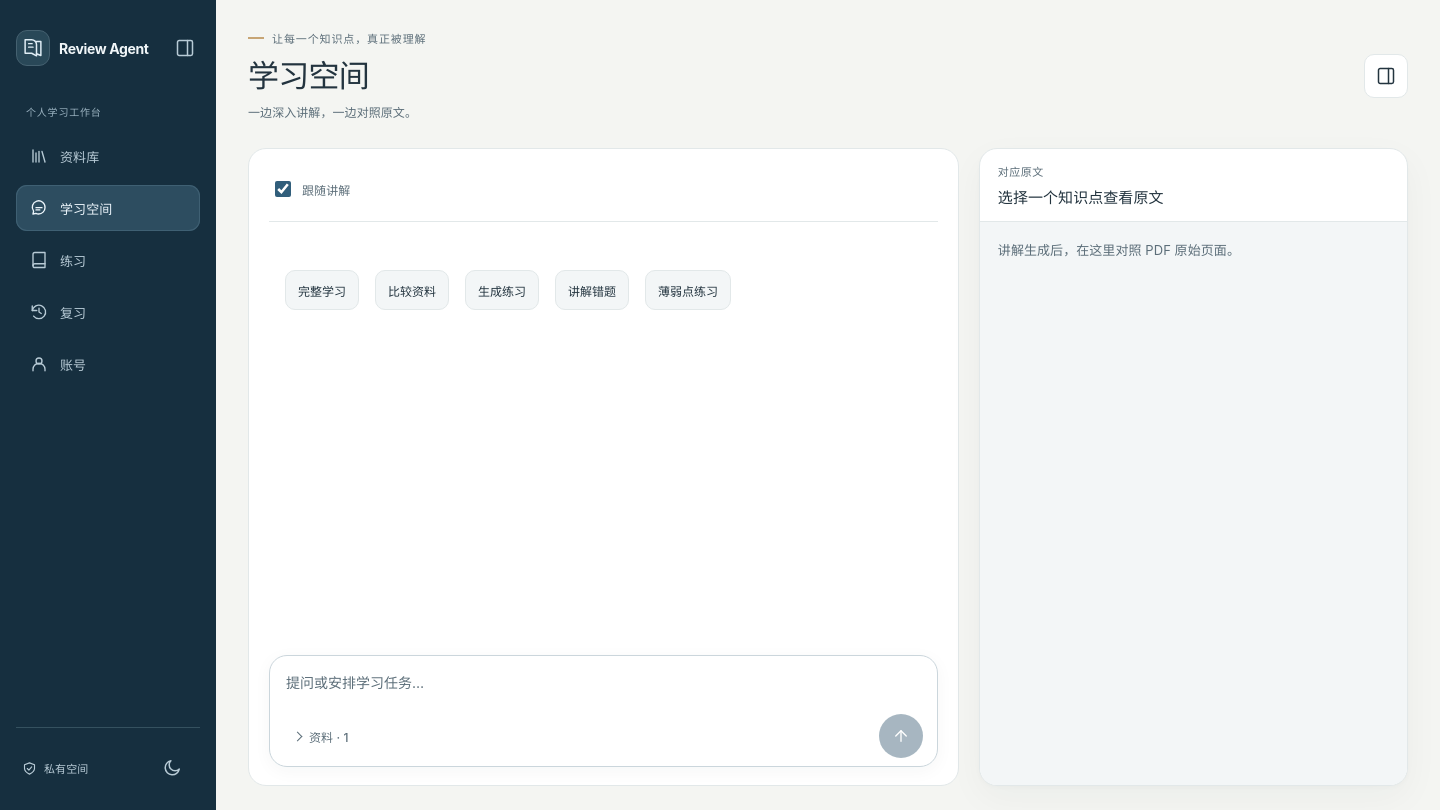
Scenario: an unindexed scope sends the user to the reader to consent instead of retrying the save
Click the heading "资料 · 1": (321, 736) [284,714,358,758]
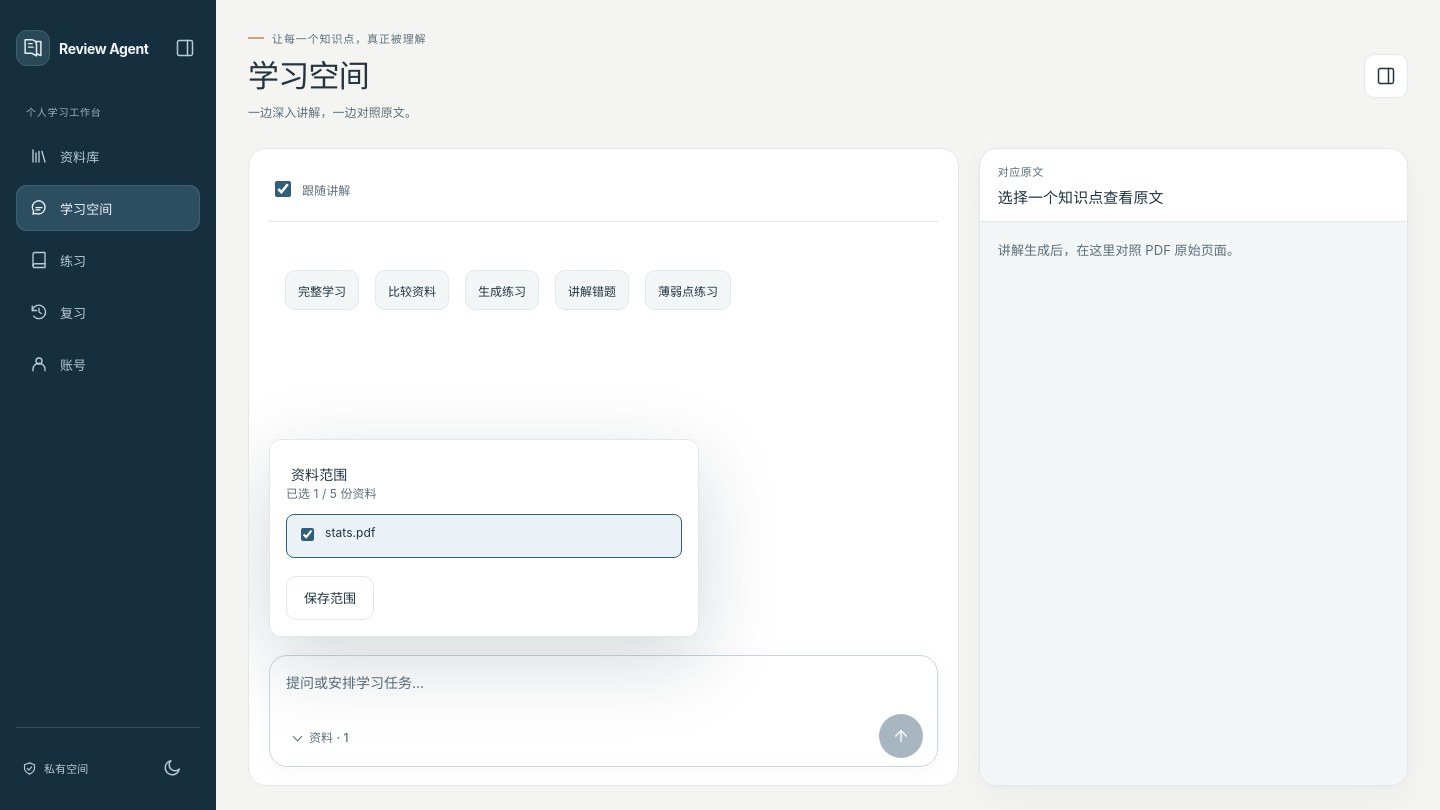
Click the button "保存范围": (330, 598) [286,576,374,620]
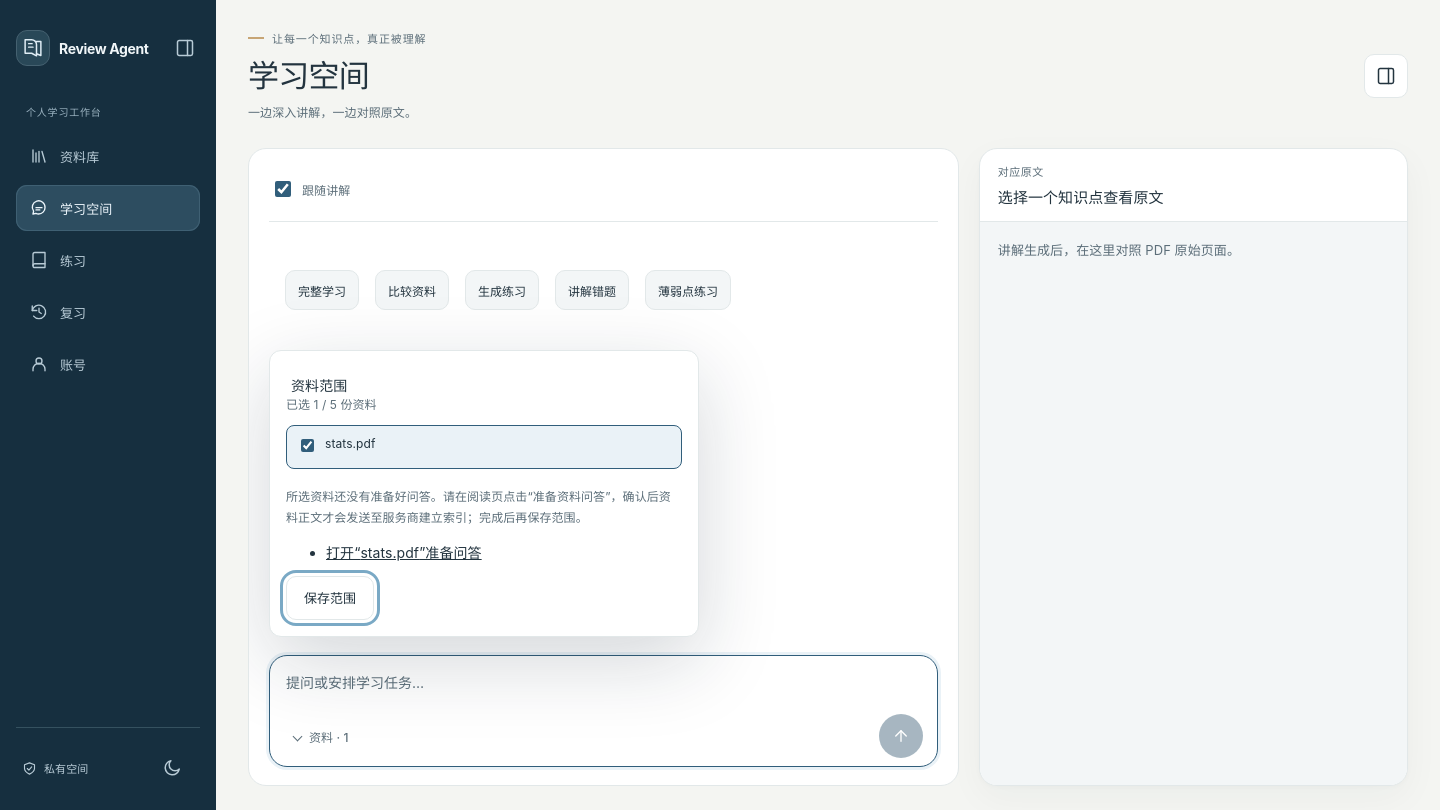
expect the text "所选资料还没有准备好问答。请在阅读页点击“准备资料问答”，确认后资料正文才会发送至服务商建立索引；完成后再保存范围。" is shown: met, box [286,487,682,528]
